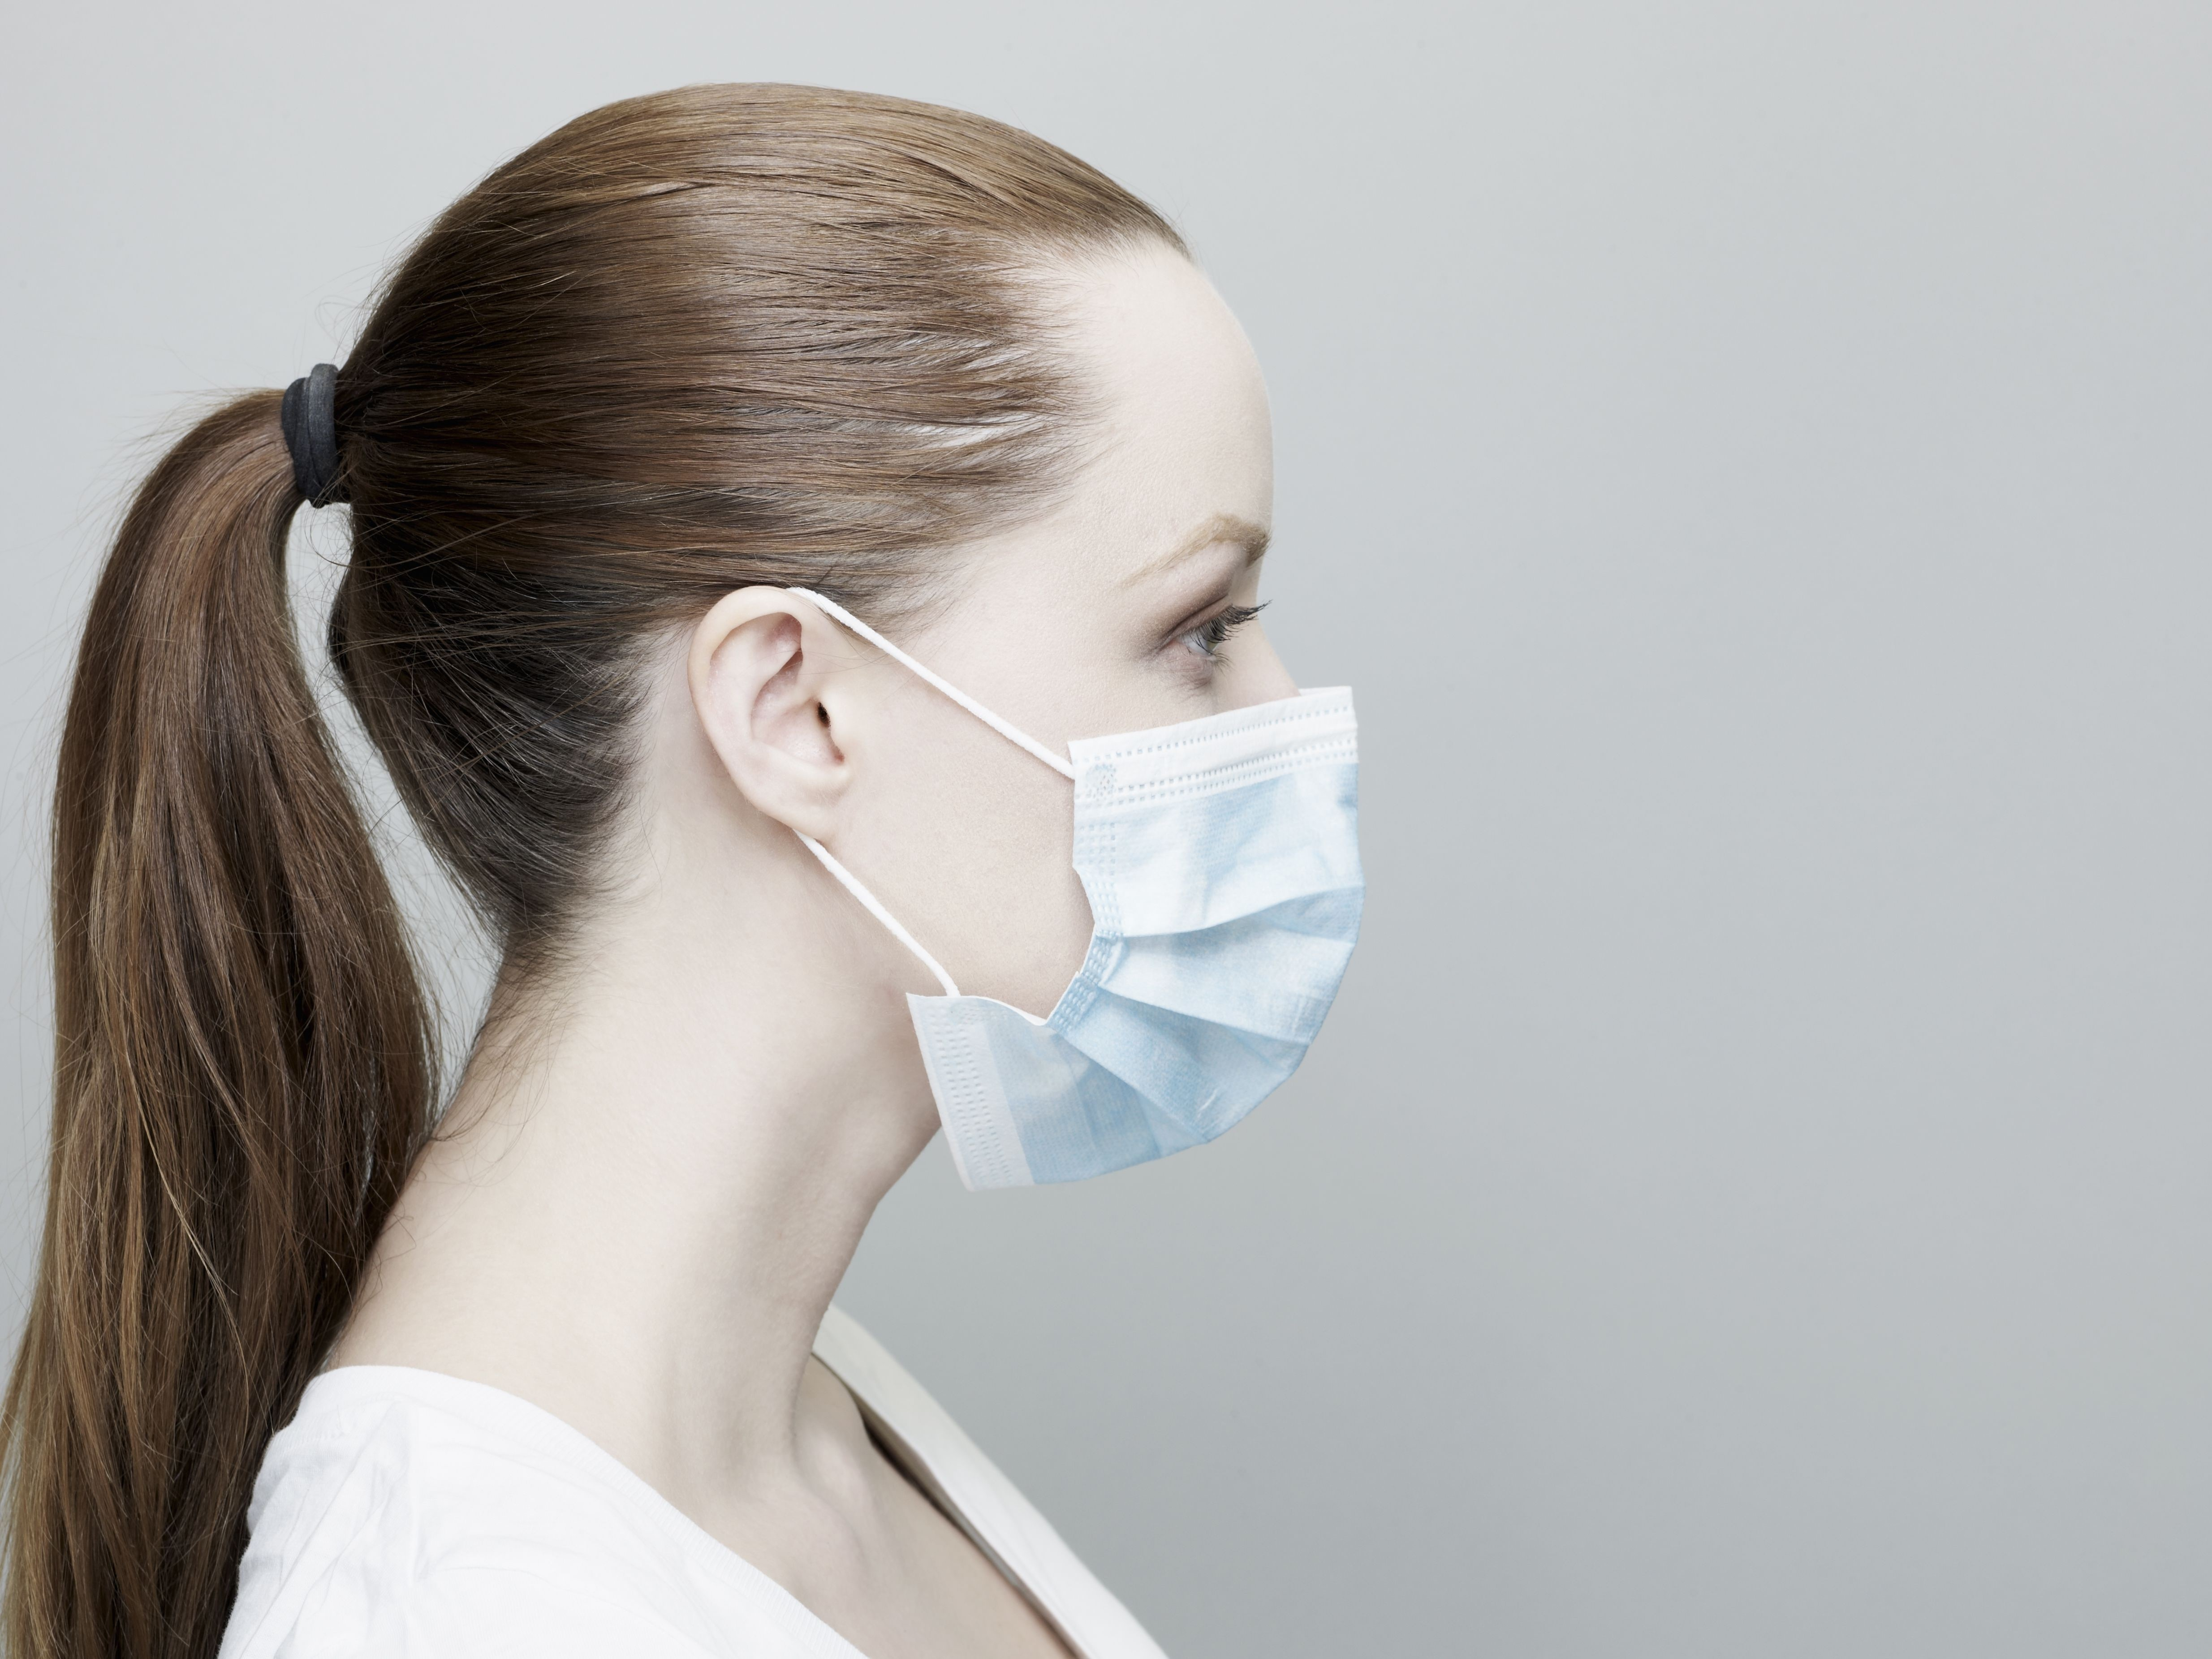face_with_mask: (334, 82, 1382, 1193)
